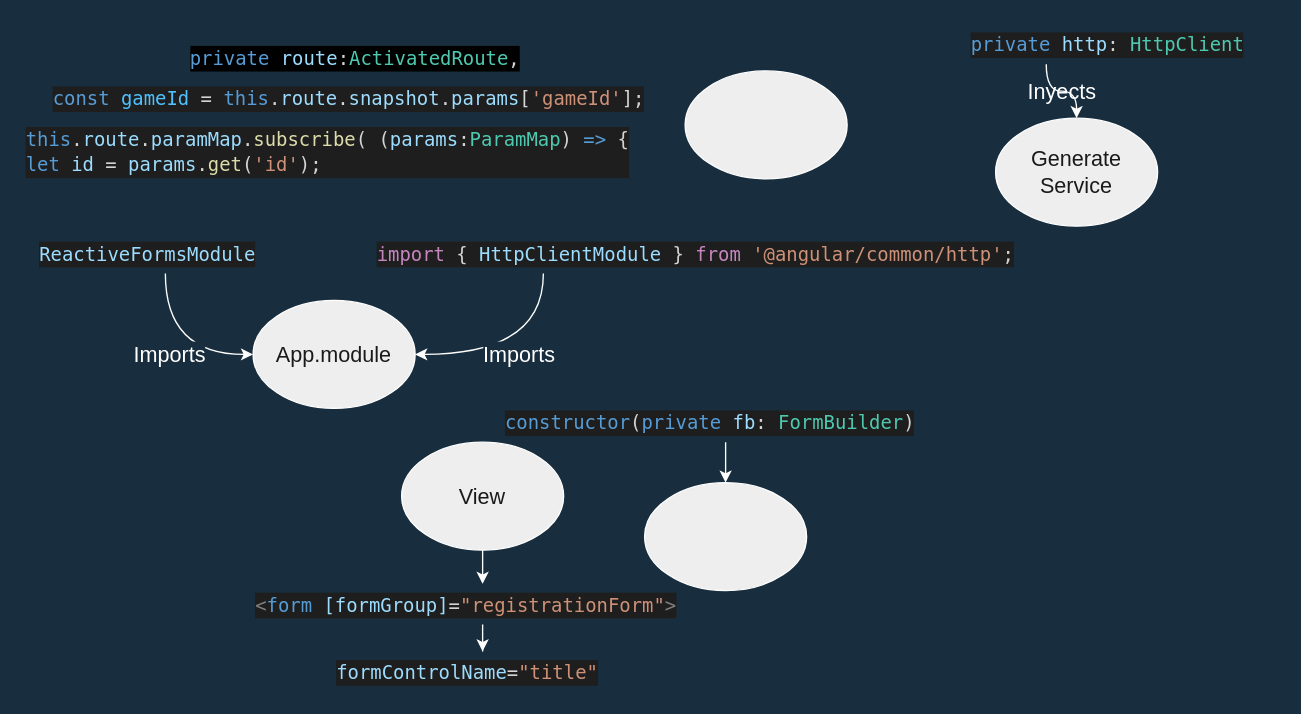
This 1301x714 diagram has some shape labels left out. The box of each missing label's shape, as (x1, y1, x2, y2) in pixels:
Component: (643, 481, 807, 591)
Edit: (684, 70, 847, 179)
